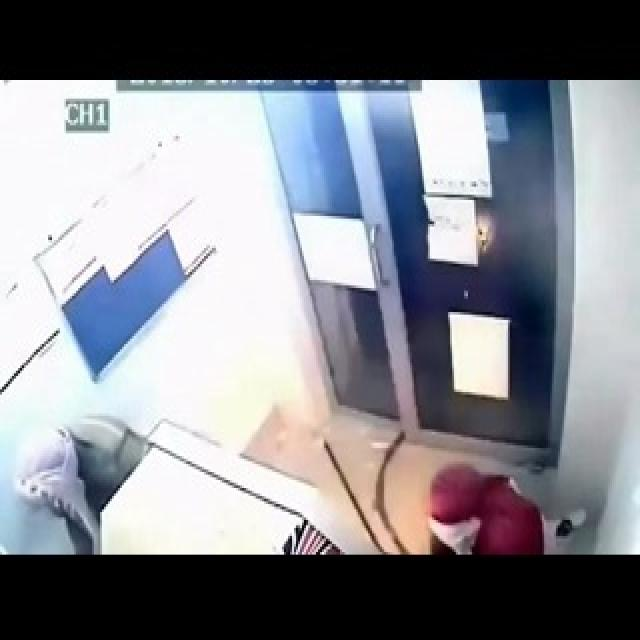thief: (404, 444, 556, 560), (22, 398, 134, 527)
